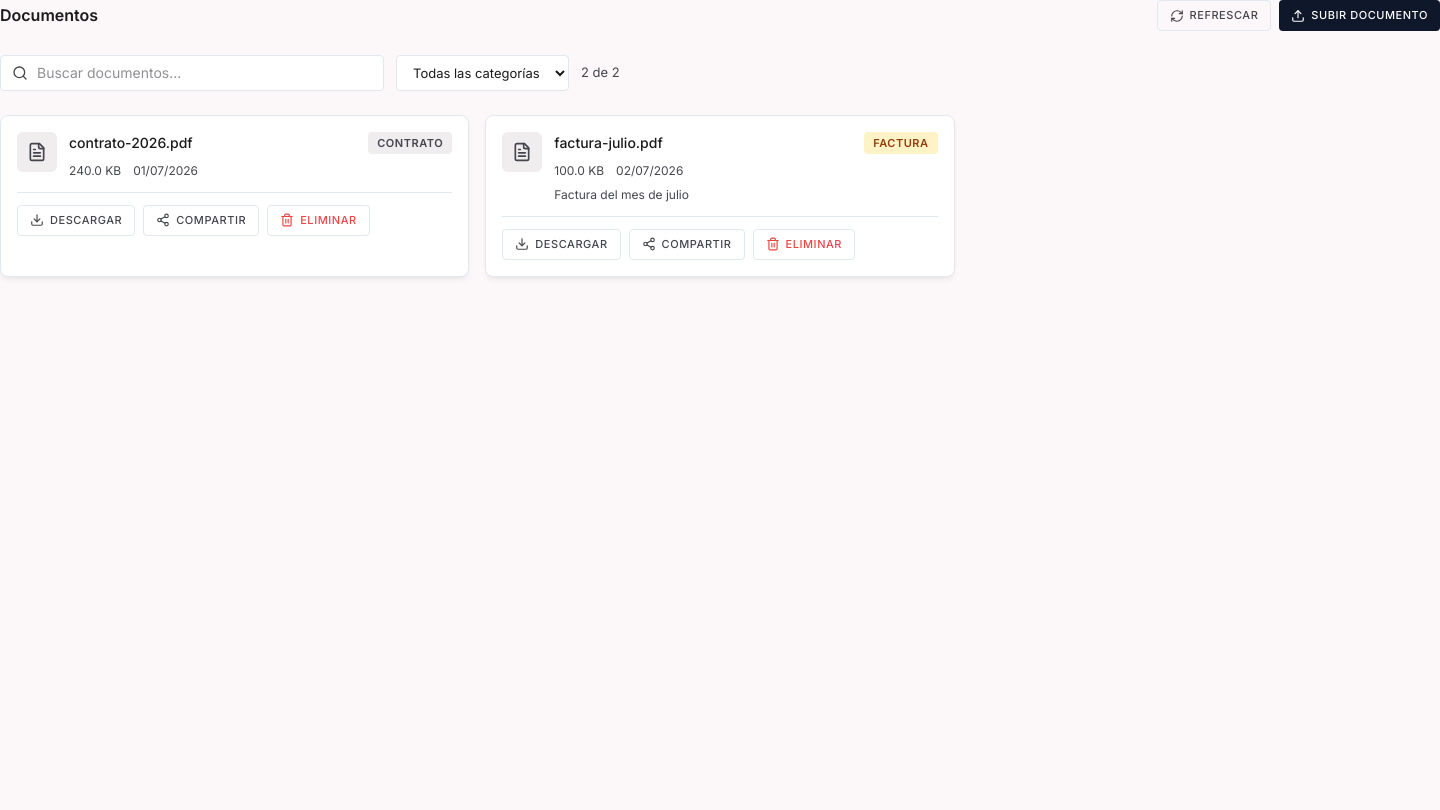
Test: AdminDocumentosPage › opens share dialog when clicking share on a card
The image size is (1440, 810).
Click the button with test id "document-share-1": (201, 220) [143,205,259,236]
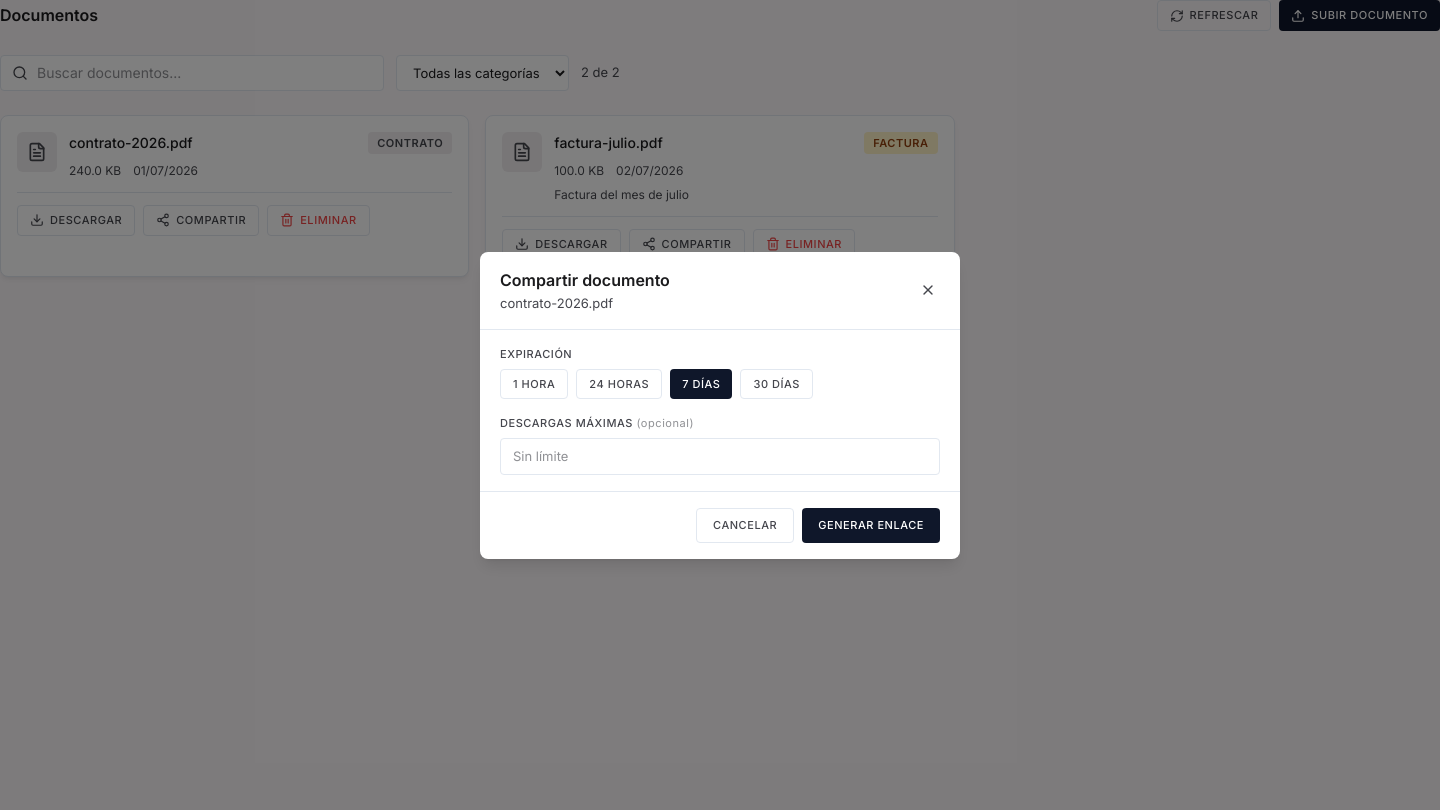
Expected: the element with test id "share-dialog" is shown, [480,252,960,558]
